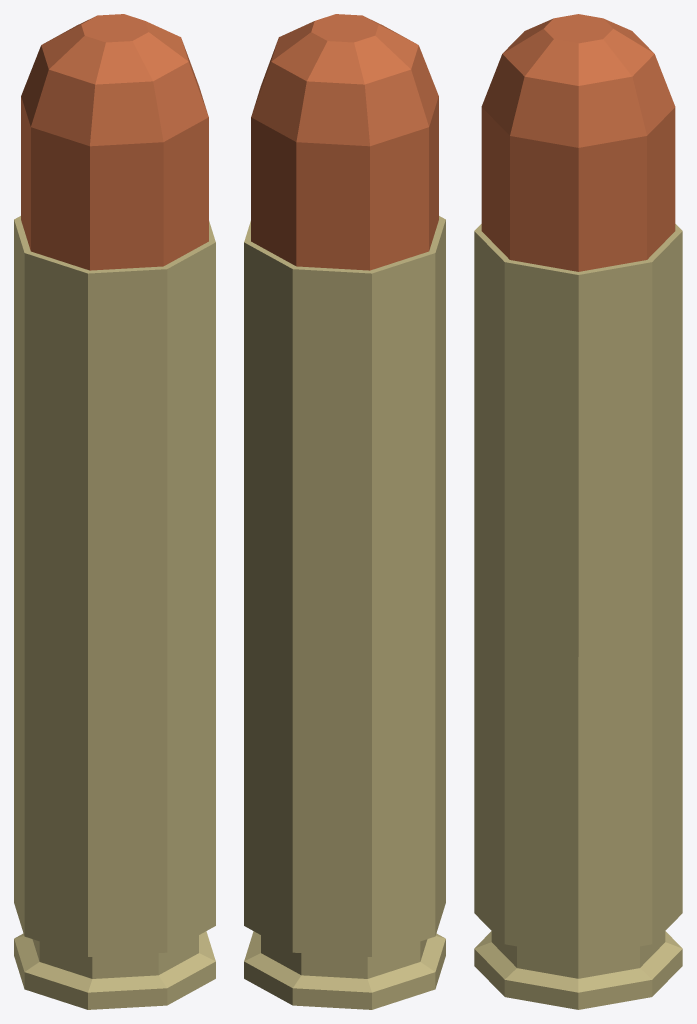
File: CRT-357.fbx
The picture shows the model from 3 angles, left to right: view 1: azimuth 30°, elevation 25°; view 2: azimuth 150°, elevation 25°; view 3: azimuth 270°, elevation 25°; orthographic projection.
Visible parts, largest first — view 1: Cylinder.006; view 2: Cylinder.006; view 3: Cylinder.006.
Part boxes in pixels (x1,y1,x2,y2): Cylinder.006: [14, 14, 215, 1009]; Cylinder.006: [244, 14, 445, 1009]; Cylinder.006: [474, 14, 682, 1009].
Size of the model in its own units: 23.17 by 115 by 23.17.
